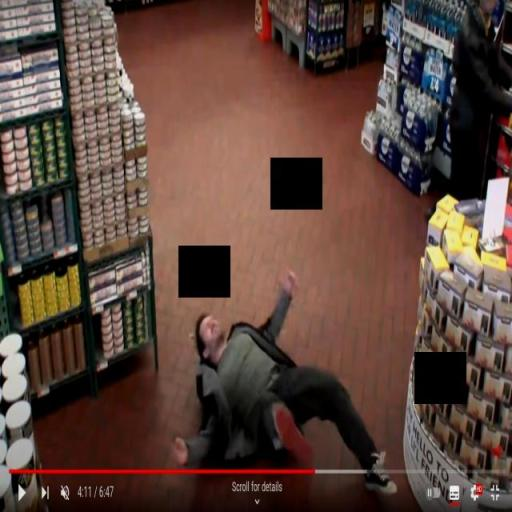Fall: (171, 266, 399, 510)
